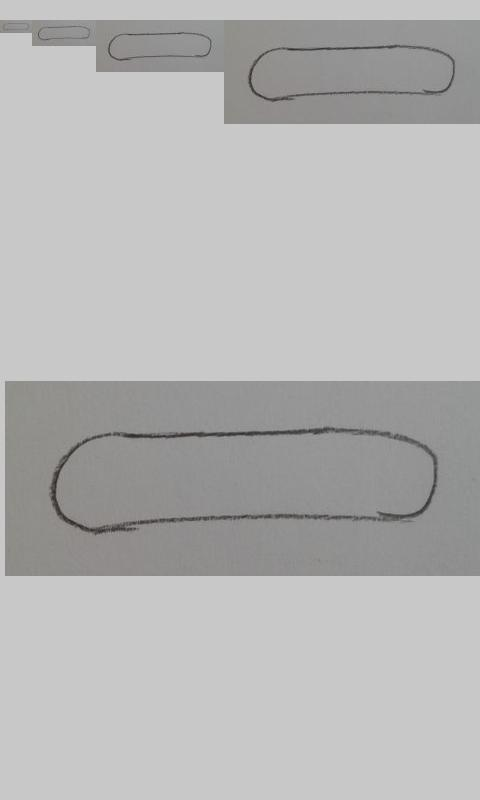chip: (48, 427, 438, 532), (248, 44, 458, 101), (107, 32, 212, 62), (37, 25, 91, 41), (3, 22, 30, 31)
